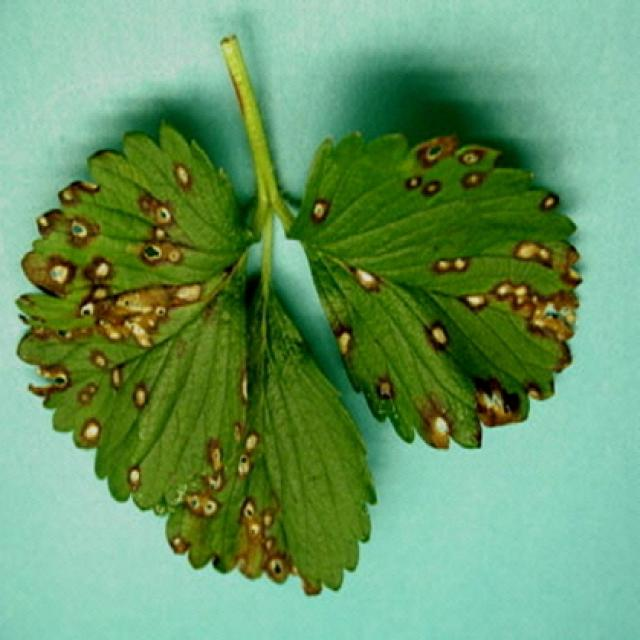Leaf Spot: (13, 116, 265, 518), (282, 125, 583, 451), (165, 281, 382, 596)
